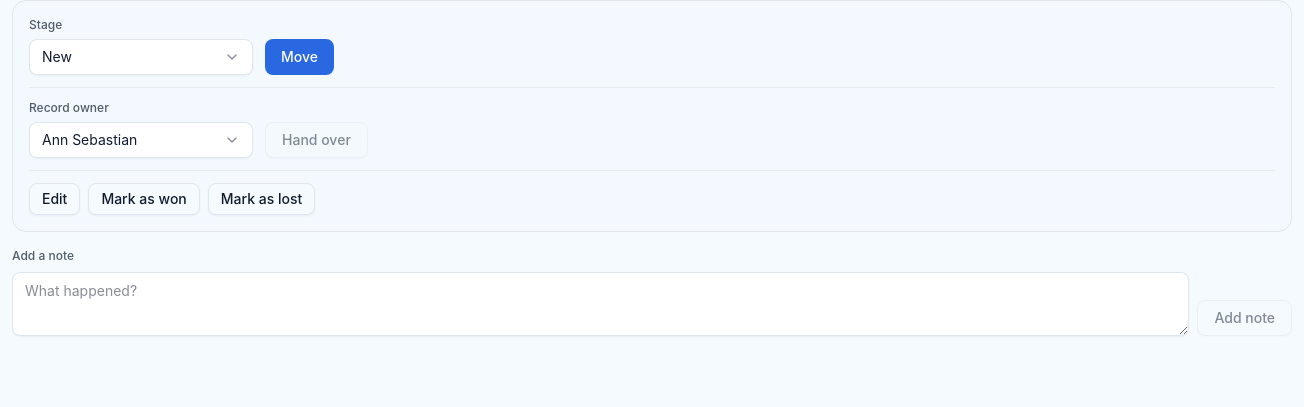
Test: the stage picker follows the server, not the last thing clicked › snaps back to the real stage when the save is refused
Click the dropdown named "Stage" at (141, 57), box x1=29 y1=39 x2=253 y2=75
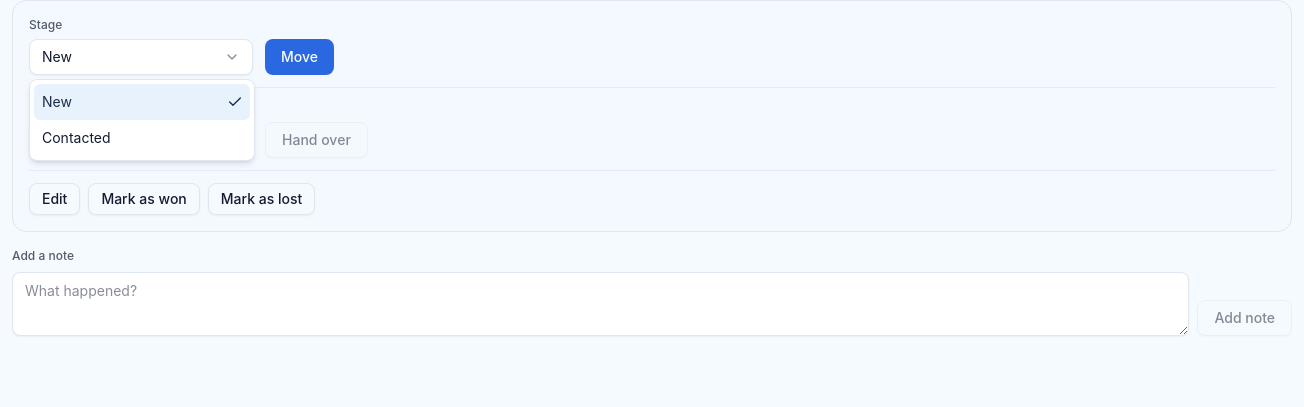
Click the option "Contacted" at (76, 138), box x1=42 y1=129 x2=111 y2=146
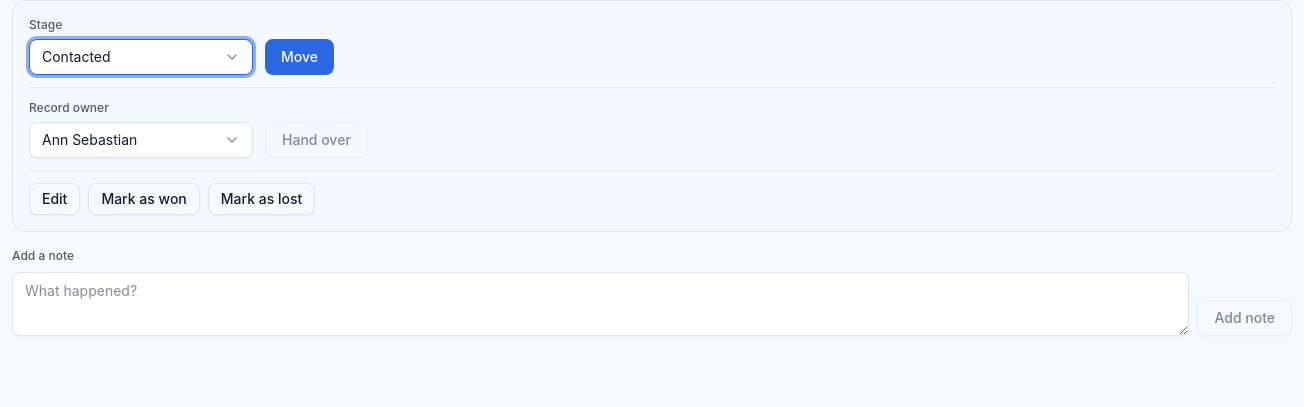
Now the dropdown named "Stage" reads "Contacted", box x1=29 y1=39 x2=253 y2=75
Click the button "Move" at (300, 57), box x1=265 y1=39 x2=334 y2=75
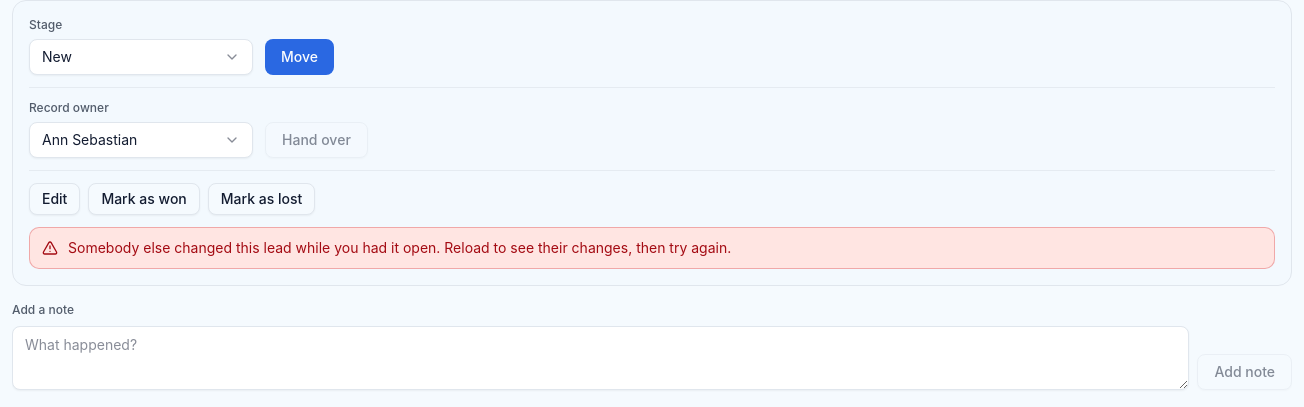
Now the text "Somebody else changed this lead" is shown, box x1=68 y1=239 x2=731 y2=256
Now the dropdown named "Stage" reads "New", box x1=29 y1=39 x2=253 y2=75
